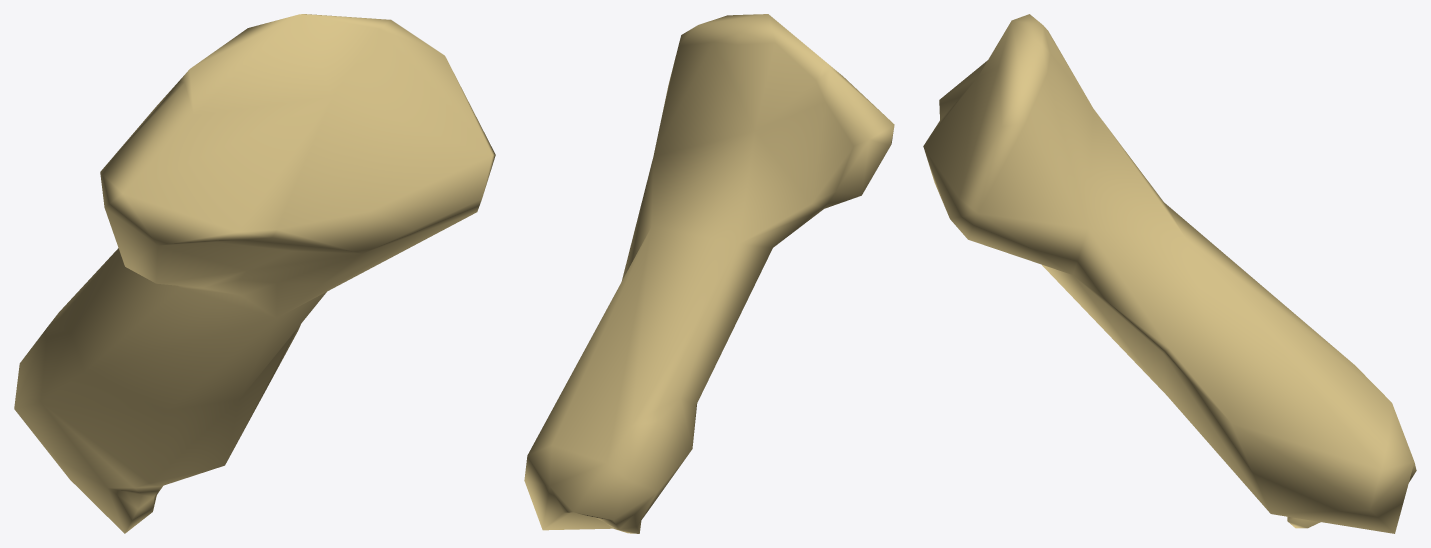
3 renders of one model, left to right at view 1: azimuth 30°, elevation 25°; view 2: azimuth 150°, elevation 25°; view 3: azimuth 270°, elevation 25°, orthographic. The views are drawn at different scales.
Parts seen in each view (by area): view 1: 右侧第五指远节指骨; view 2: 右侧第五指远节指骨; view 3: 右侧第五指远节指骨.
Boxes of the visible parts, x1,y1,x2,y2 form: 右侧第五指远节指骨: (14,14,495,533); 右侧第五指远节指骨: (524,14,894,533); 右侧第五指远节指骨: (923,14,1416,533).
Bounding box in the file's own units: 0.0126 × 0.0218 × 0.0193.
